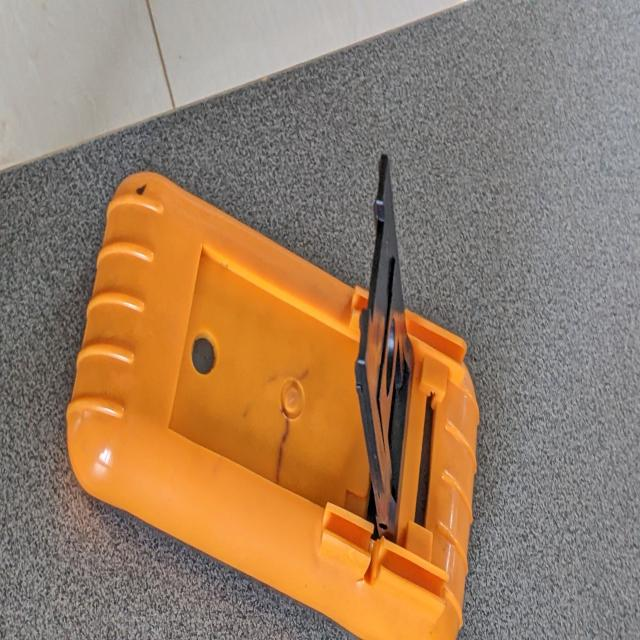Digital Multimeter: (56, 155, 480, 640)
